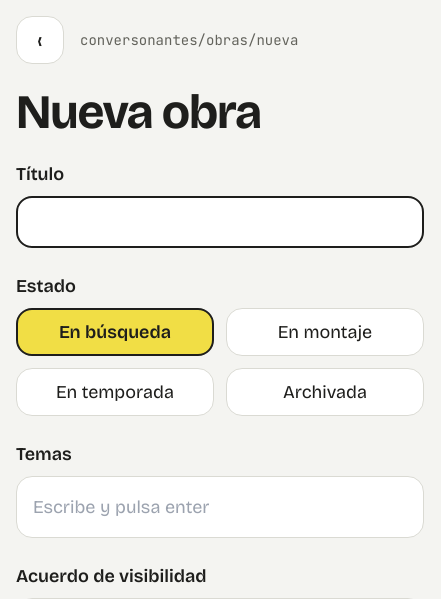
Test: HU-05 · obras › does not submit without a title and lets you remove a theme
Type "tema" into the field named "Agregar tema" at (220, 507), box [25, 485, 415, 529]
Then press Enter
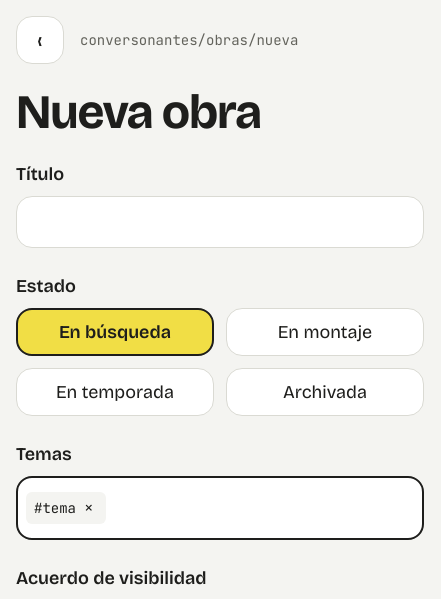
Click the button named "quitar tema tema" at (89, 508), box [80, 496, 98, 520]
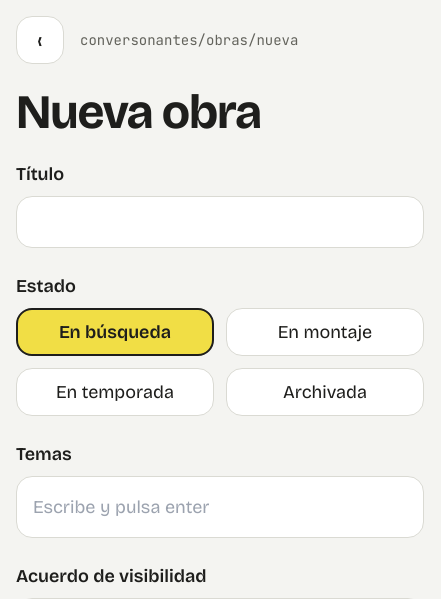
Expected: the text "#tema" is gone
